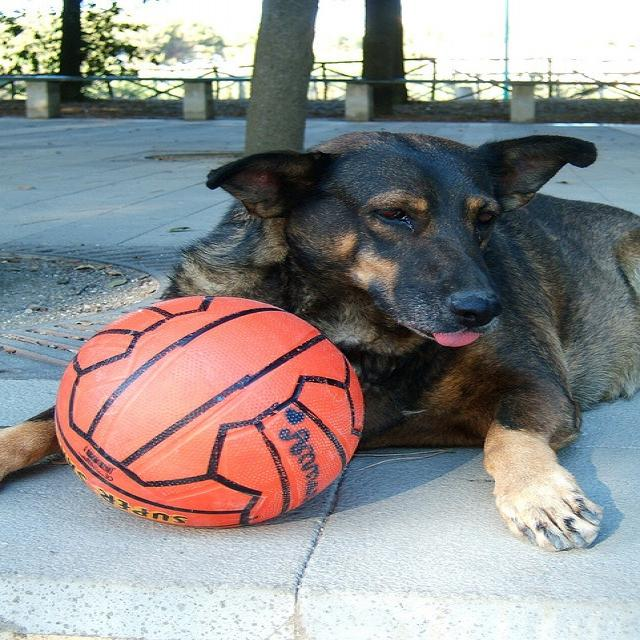dog: (0, 127, 639, 551)
